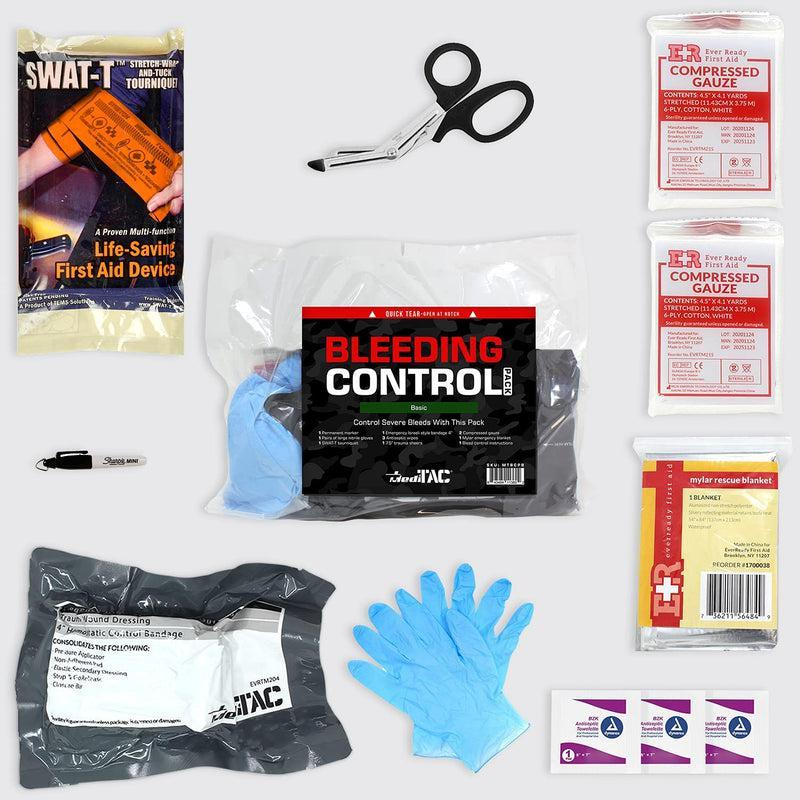scissors: (309, 39, 535, 174)
